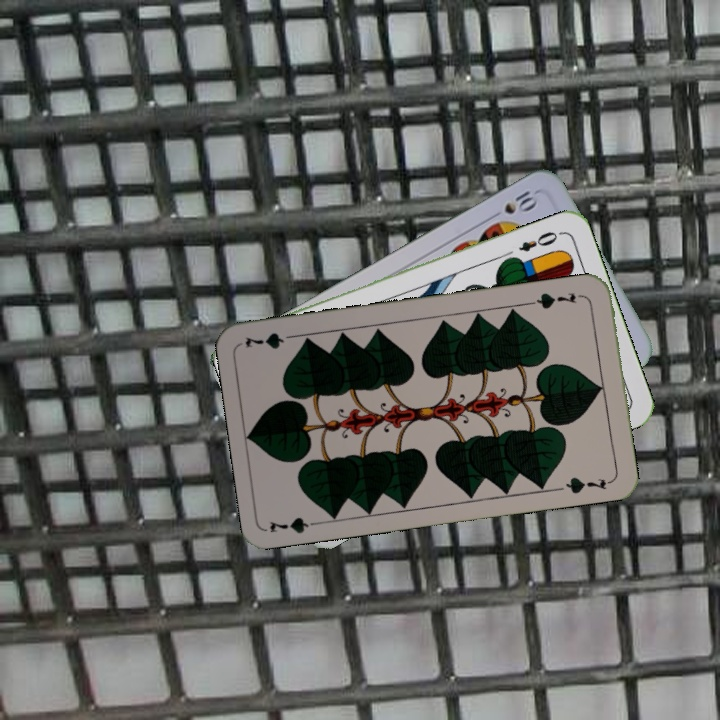EO: (514, 227, 565, 255)
G7: (528, 288, 587, 312), (265, 513, 325, 536)
S10: (500, 186, 541, 217)
